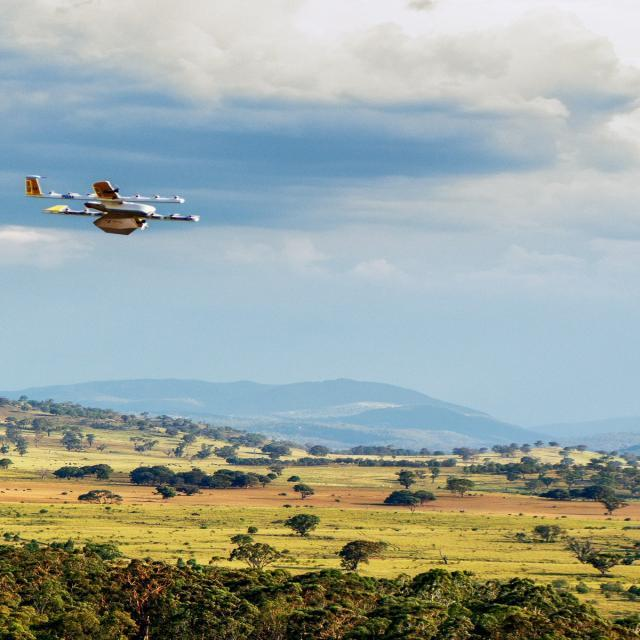iha: (0, 202, 140, 208)
